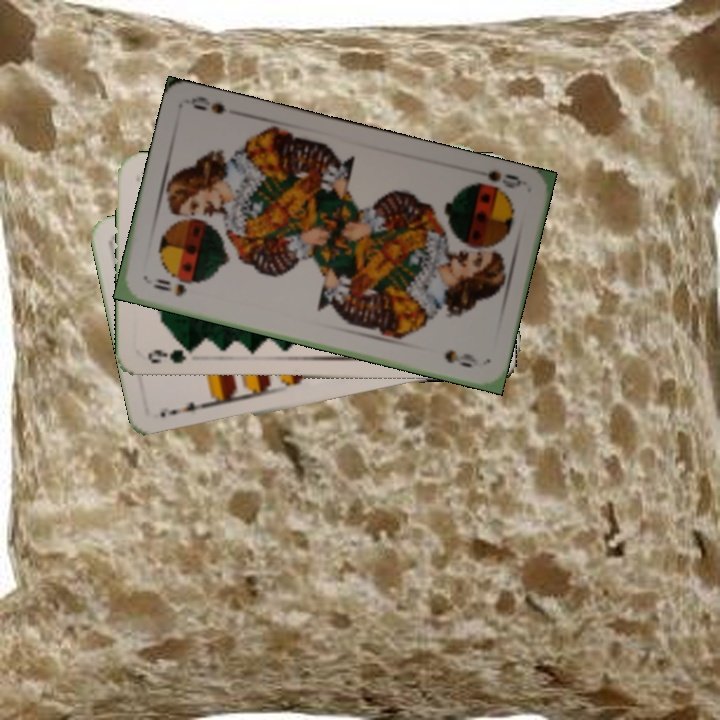E7: (165, 397, 212, 418)
G9: (143, 345, 198, 366)
SO: (149, 274, 189, 300), (483, 166, 524, 191)
